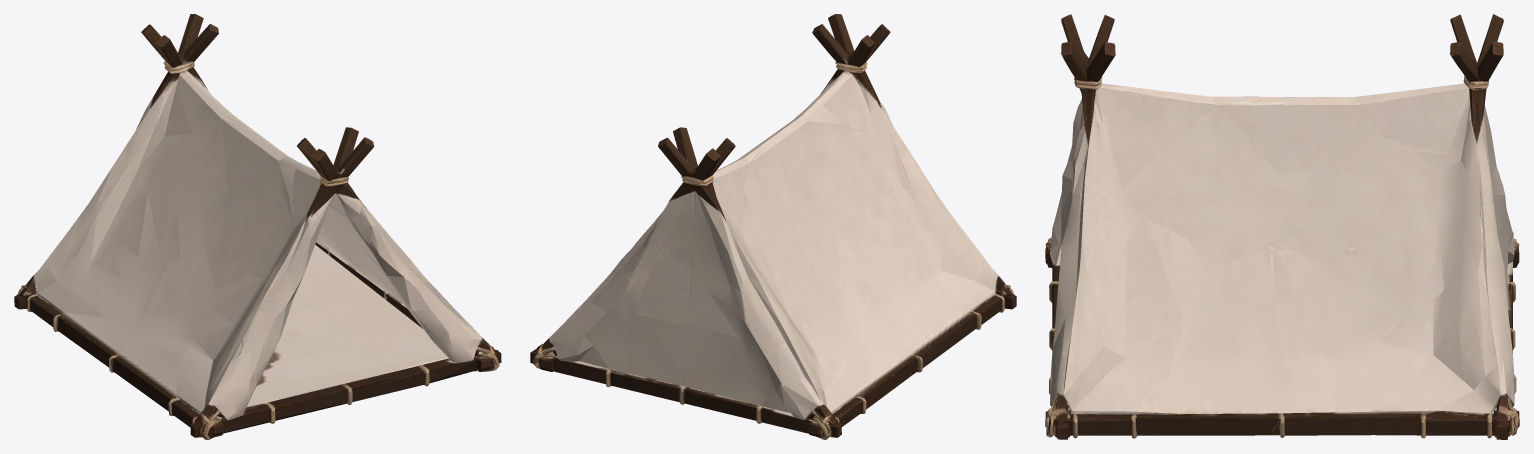
The model's file is tent.glb.
The picture shows the model from 3 angles, left to right: view 1: azimuth 30°, elevation 25°; view 2: azimuth 150°, elevation 25°; view 3: azimuth 270°, elevation 25°; orthographic projection. The views are drawn at different scales.
Parts seen in each view (by area): view 1: Tent · canonical metres · front +Z; view 2: Tent · canonical metres · front +Z; view 3: Tent · canonical metres · front +Z.
Boxes of the visible parts, x1,y1,x2,y2 form: Tent · canonical metres · front +Z: (14,14,501,439); Tent · canonical metres · front +Z: (530,14,1016,439); Tent · canonical metres · front +Z: (1045,14,1519,439).
Size of the model in its own units: 1.88 by 1.5 by 2.
1 material, 1 textured.
